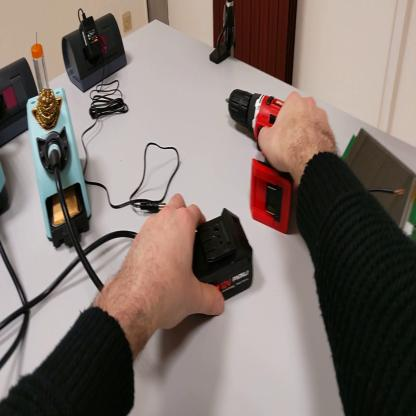electric screwdriver: (225, 90, 291, 236)
hand: (122, 194, 224, 334), (257, 90, 338, 186)
low voltage board: (340, 122, 415, 243)
socket: (63, 10, 128, 97), (2, 50, 42, 151)
welder base: (27, 36, 92, 253)
welder probe tip: (49, 144, 63, 175)
welder station: (2, 157, 9, 218)
